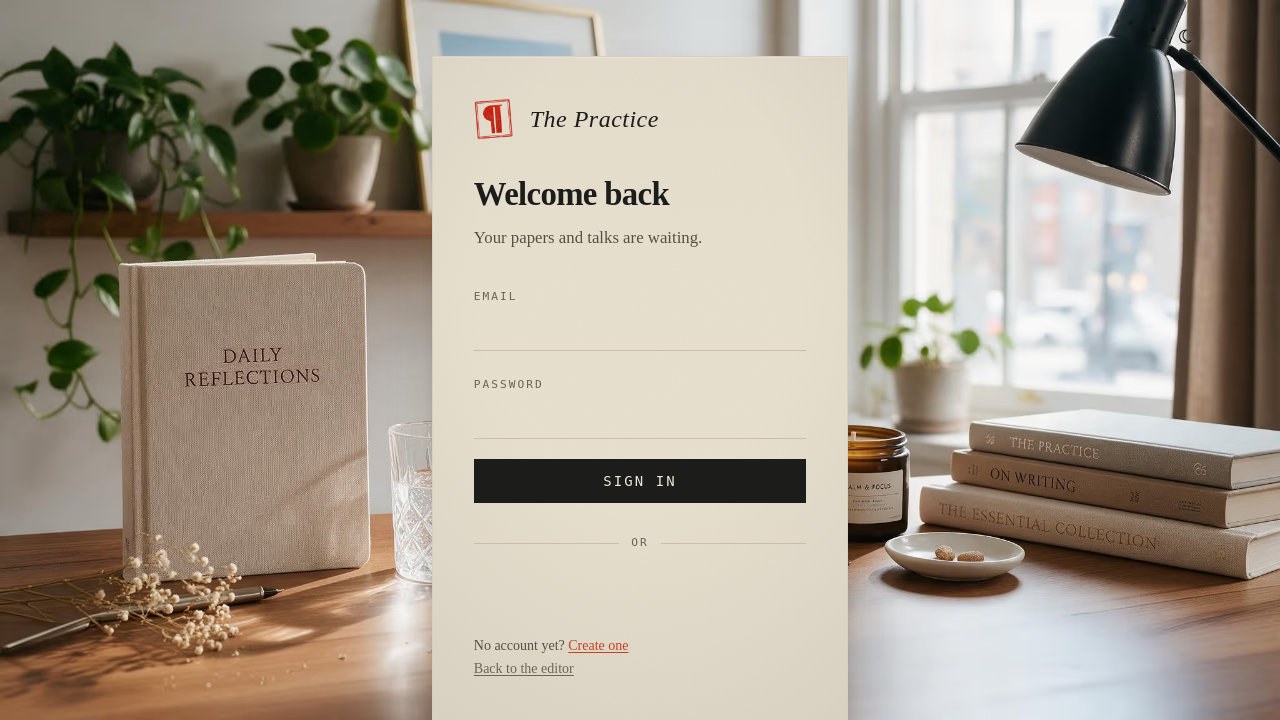
Test case: AuthPage › keeps the password form locked after a successful sign-in
Type "a@b.c" into the field labelled "Email" at x=640, y=331, box [474,311,806,351]
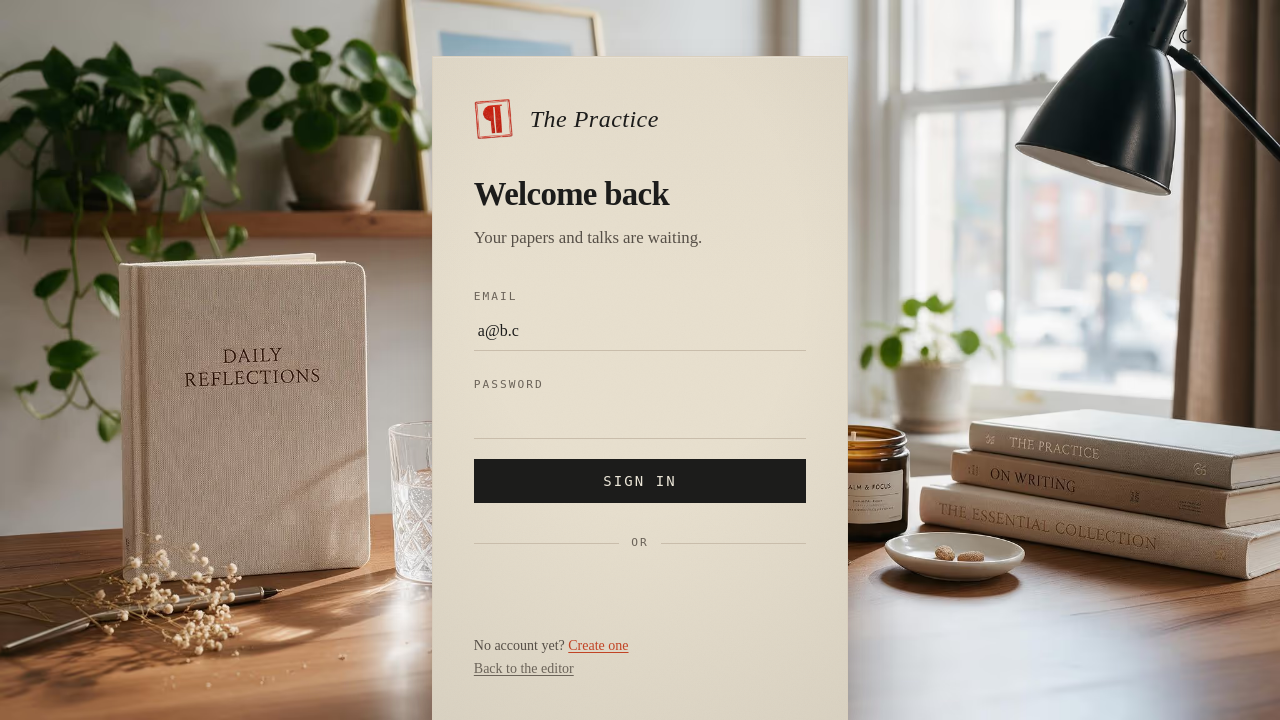
Type "password1" into the password field labelled "Password" at x=640, y=419, box [474,399,806,439]
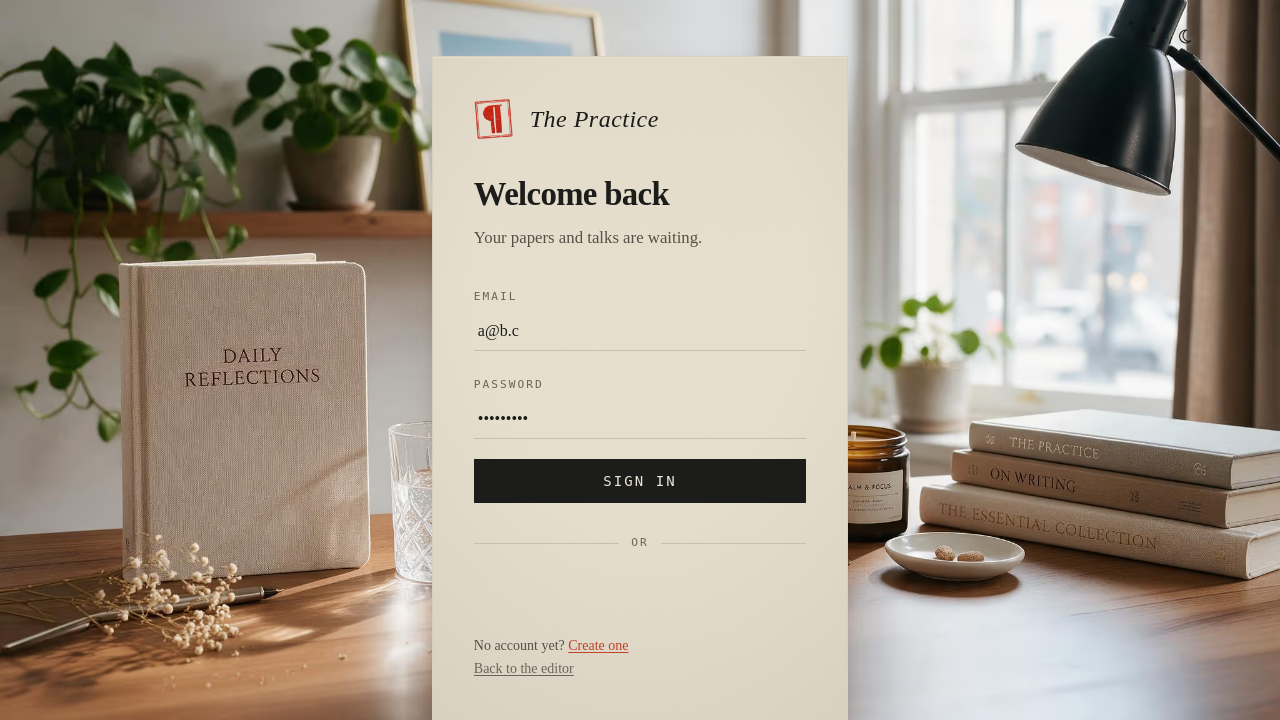
Submit the form "Sign in", box [474,283,806,503]
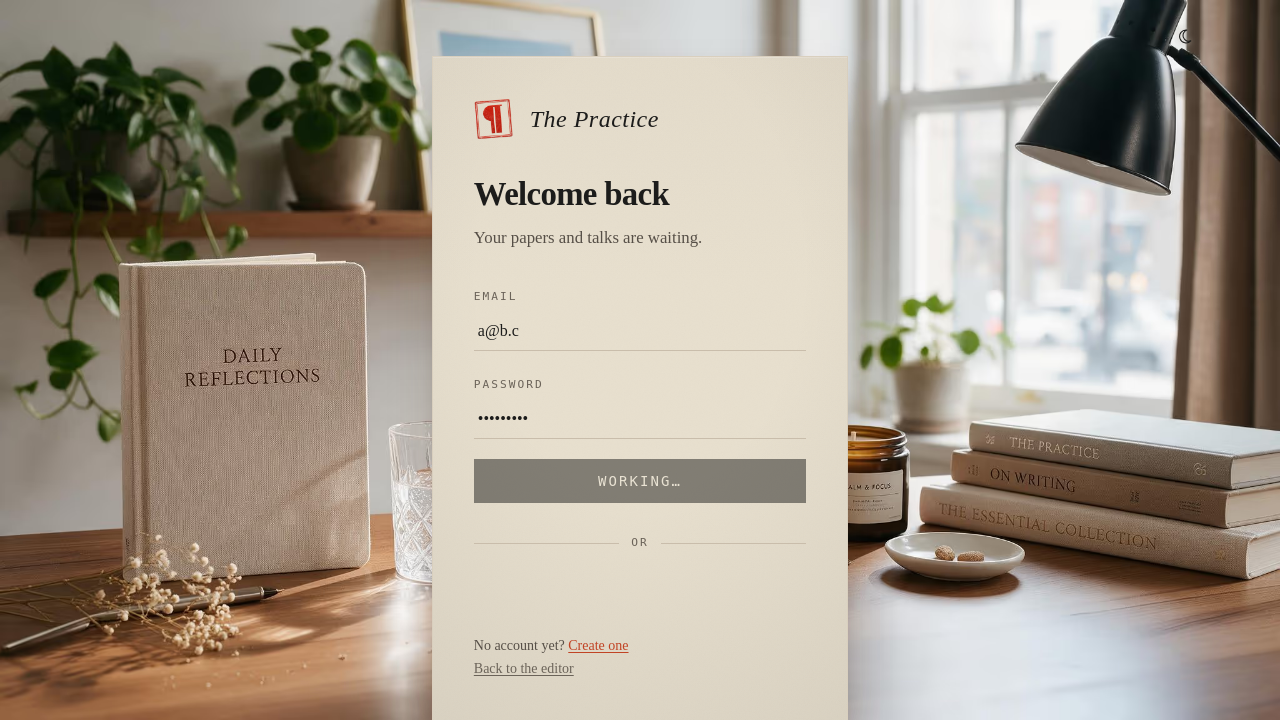
Now the button "Working…" is disabled, box [474,459,806,503]
